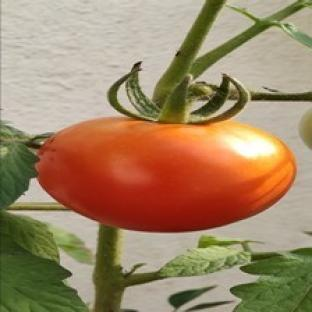Tomato: (37, 117, 295, 232), (300, 109, 311, 149)
